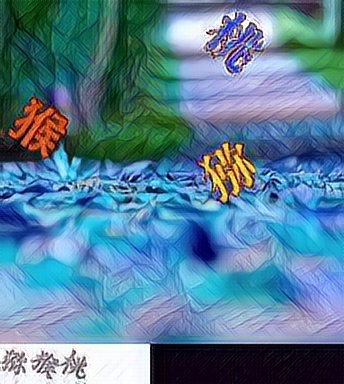BAEF: (6, 93, 70, 159)
CCD2: (203, 9, 267, 75)
E2A8: (195, 137, 259, 203)
